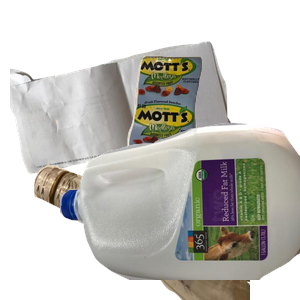glass: (31, 120, 271, 300)
paper: (10, 39, 236, 205)
plastic: (60, 120, 300, 300)
trash: (125, 53, 300, 201)
